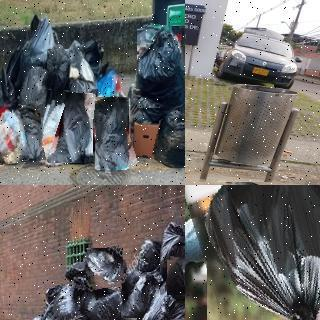Garbage: (192, 185, 320, 320), (134, 24, 185, 110), (90, 96, 134, 172), (53, 92, 95, 164), (154, 95, 185, 168), (37, 101, 69, 167), (84, 247, 125, 289), (120, 273, 161, 315), (78, 282, 123, 320), (0, 106, 27, 164), (17, 63, 48, 112), (18, 106, 44, 163), (160, 219, 185, 277), (49, 279, 80, 320), (44, 48, 72, 91), (132, 237, 161, 277), (166, 258, 185, 297)
